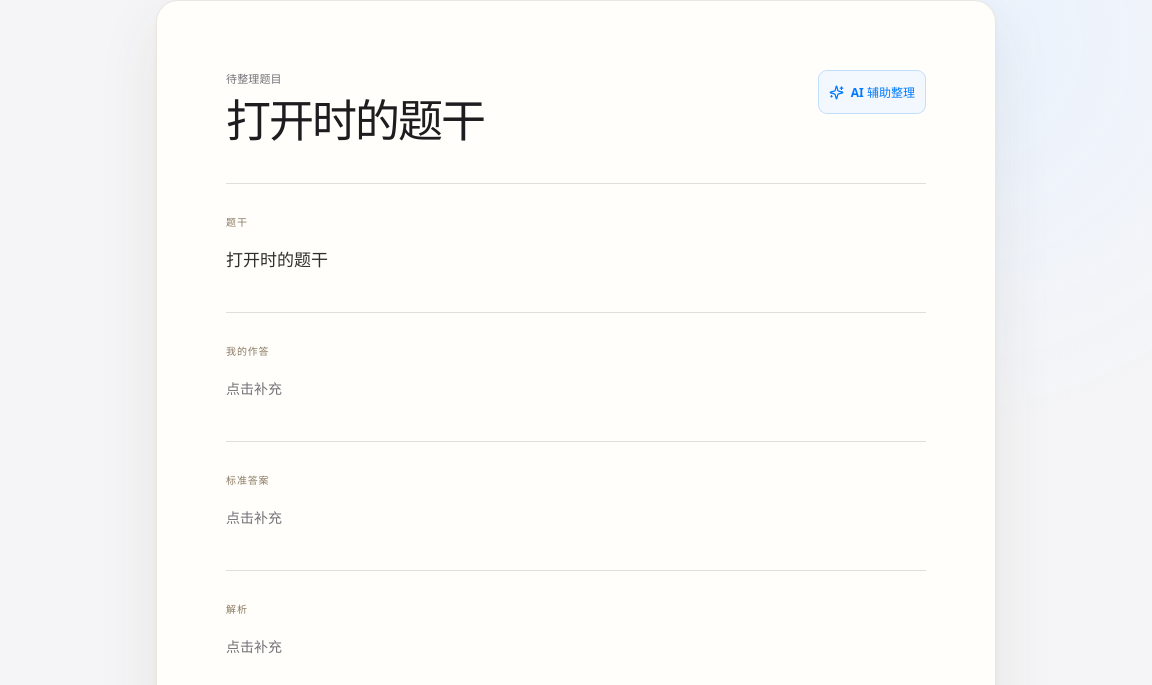
reloads a stale document version without discarding the draft before retry
The width and height of the screenshot is (1152, 685).
Click the button with aria-label "编辑题干": (277, 260) [226, 238, 838, 282]
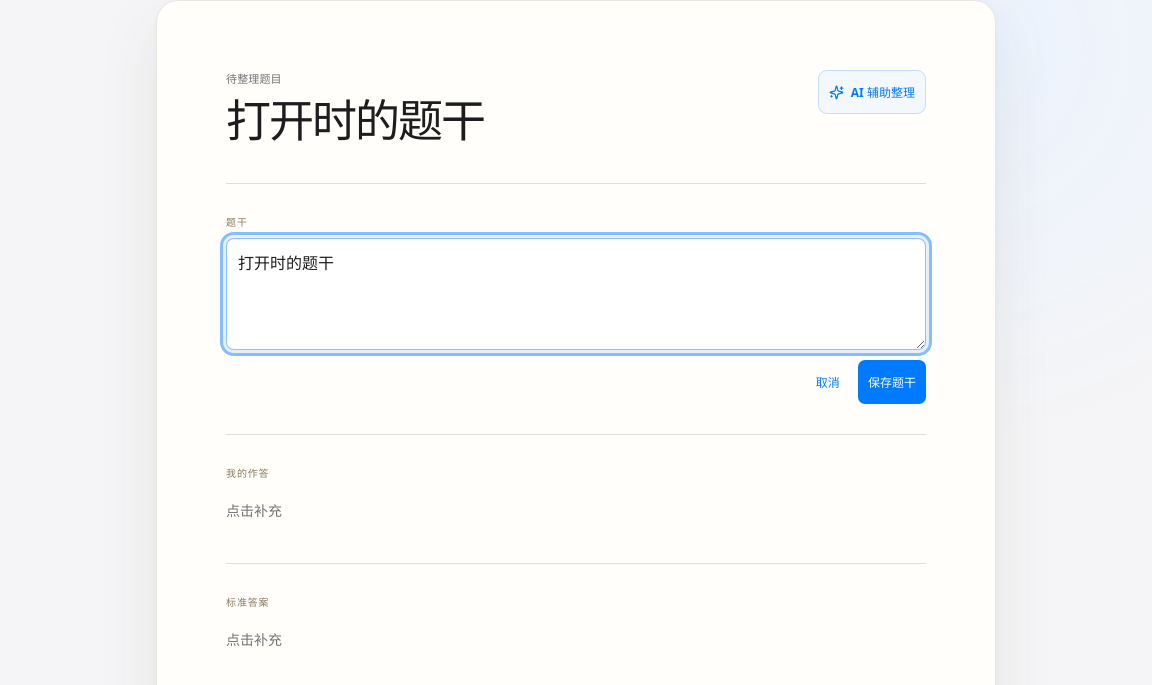
Replace the text in the text box named "编辑题干" with "保留的本地草稿": (576, 294) [226, 238, 926, 350]
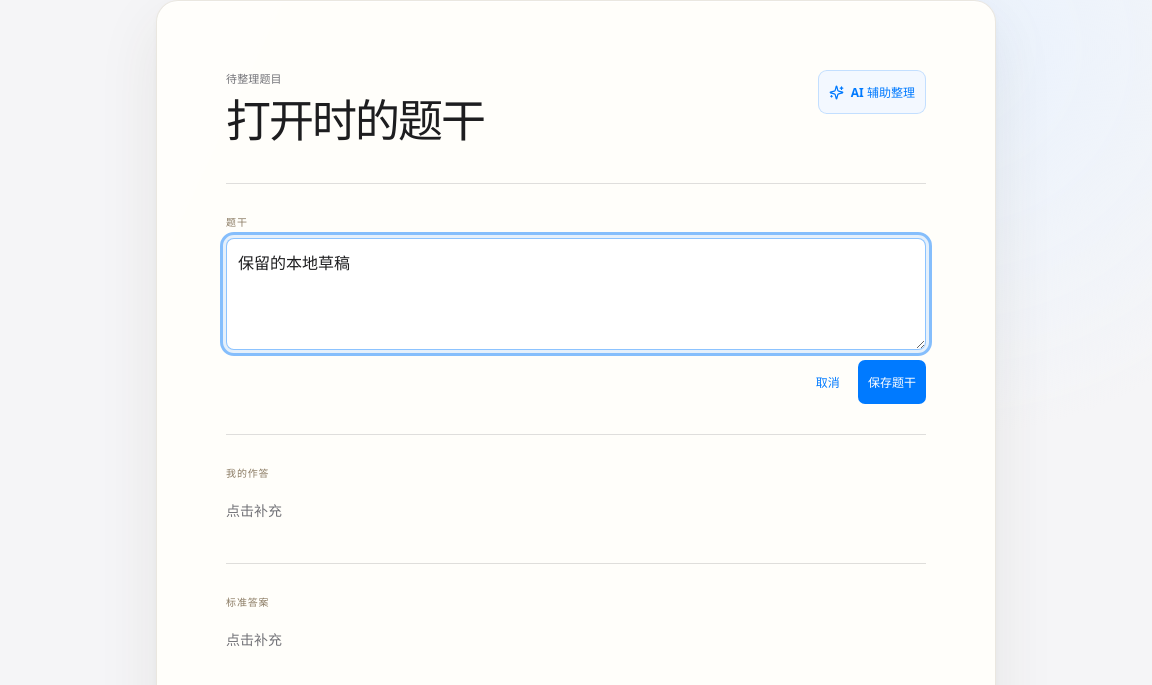
Click the button "保存题干": (892, 382) [858, 360, 926, 404]
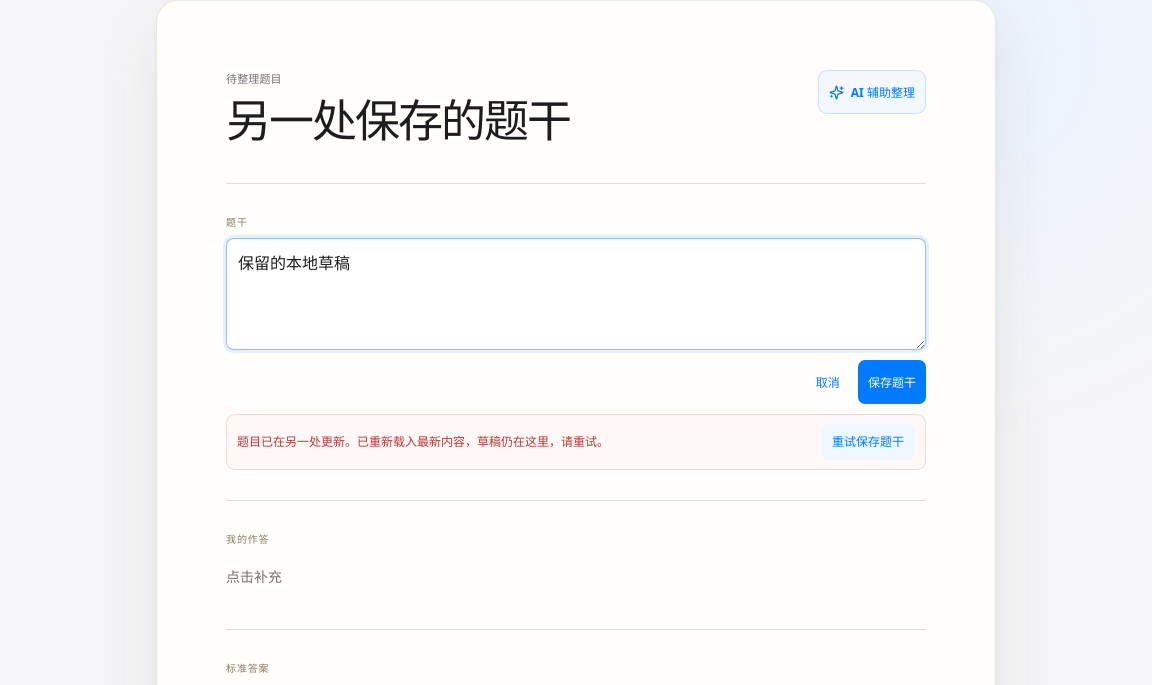
Expected: the message shows "已重新载入最新内容", [237, 433, 609, 450]
Click the button "重试保存题干": (868, 442) [821, 424, 915, 460]
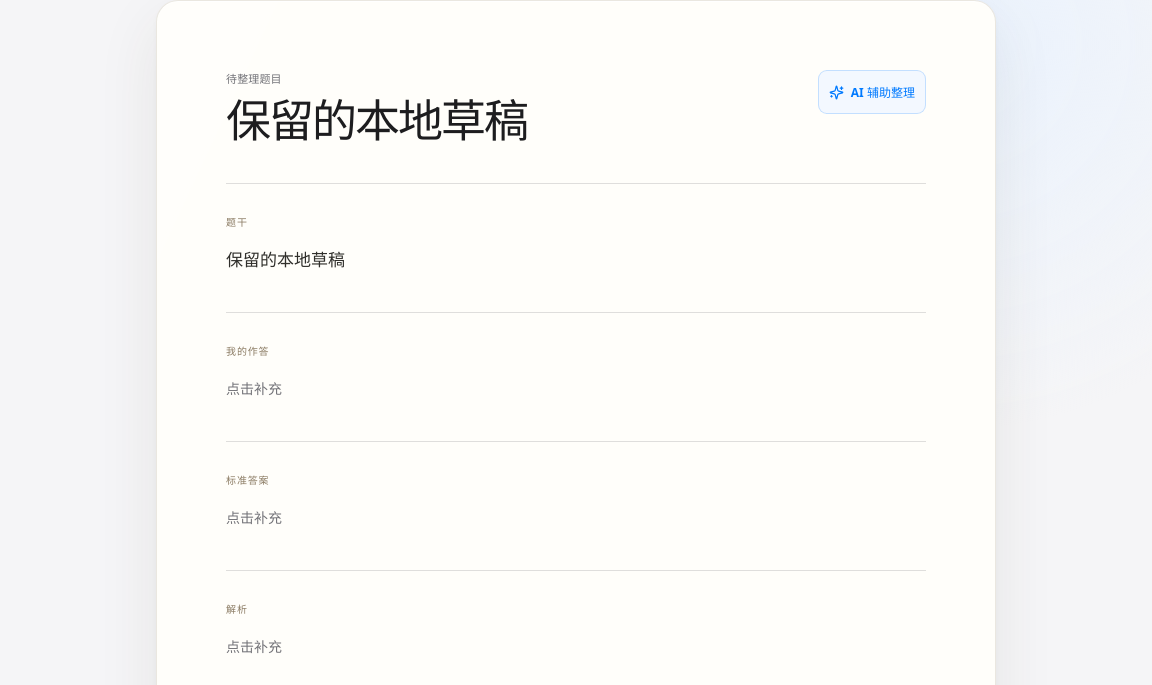
Expected: the heading "保留的本地草稿" is shown, [226, 93, 527, 147]
